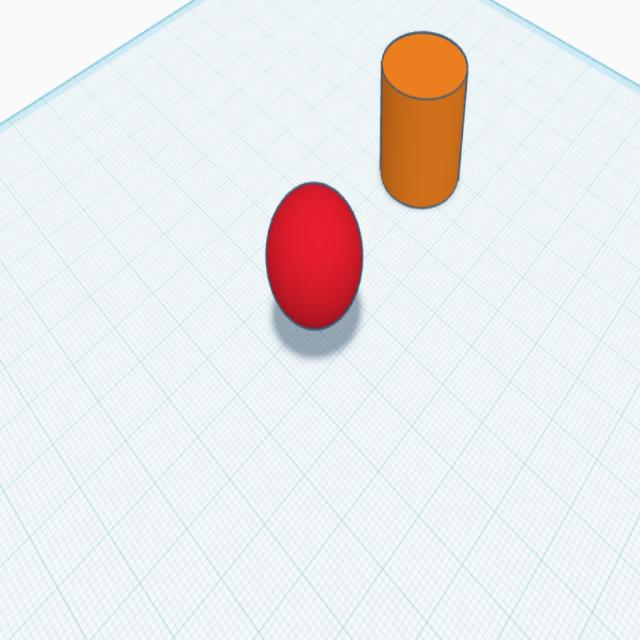sphere: (260, 177, 367, 337)
